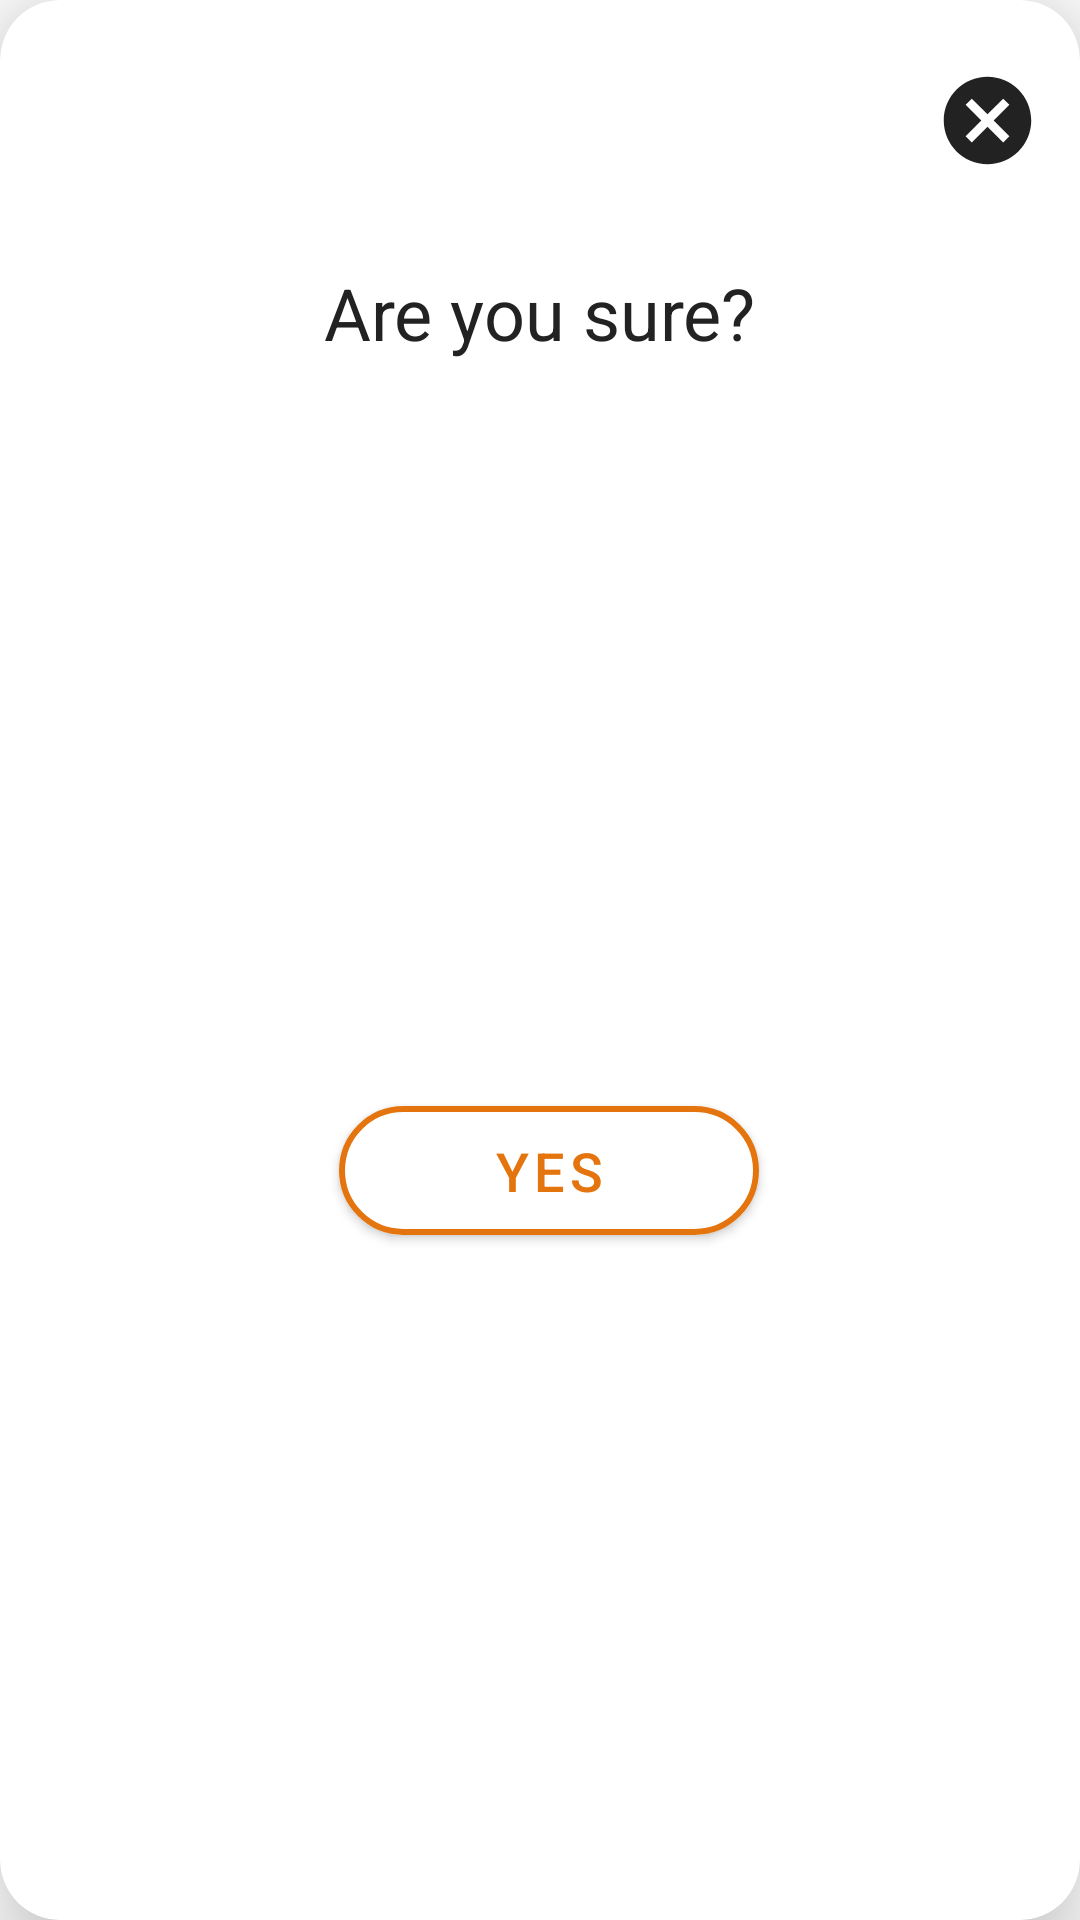

Named icons in this screenshot (1080px x 1920px) and their centers, point (x, y):
cancel: point (987, 120)
